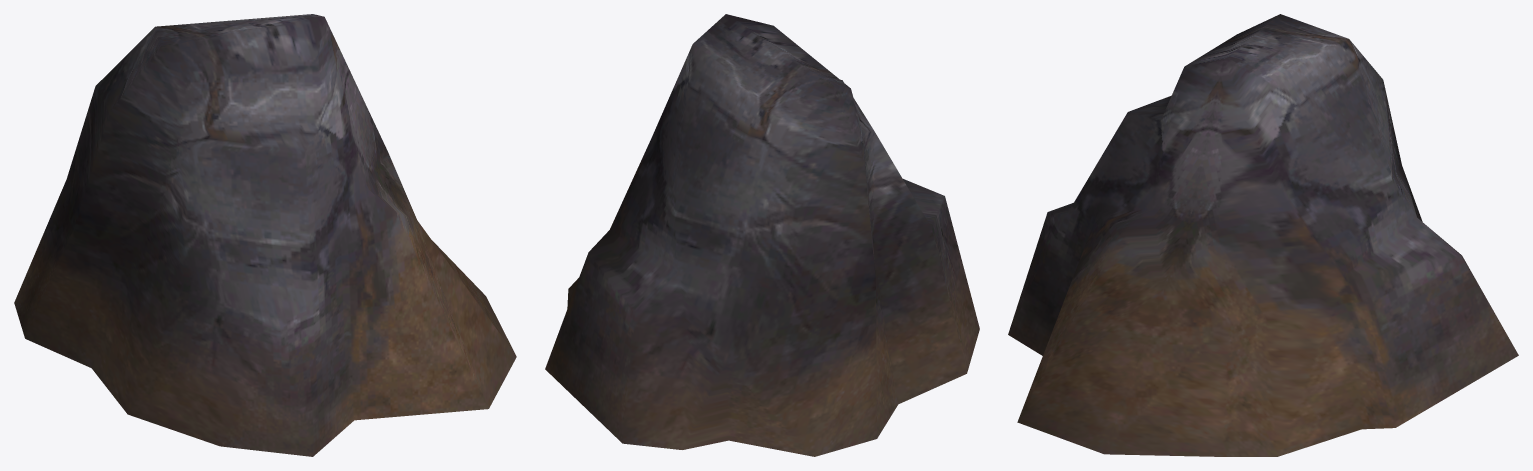
The model's file is environment_stone_yewai_003.FBX.
The picture shows the model from 3 angles, left to right: view 1: azimuth 30°, elevation 25°; view 2: azimuth 150°, elevation 25°; view 3: azimuth 270°, elevation 25°; orthographic projection.
Parts seen in each view (by area): view 1: environment_stone_huojianshi_001_02; view 2: environment_stone_huojianshi_001_02; view 3: environment_stone_huojianshi_001_02.
Part boxes in pixels (x1=…): environment_stone_huojianshi_001_02: x1=14, y1=14, x2=516, y2=456; environment_stone_huojianshi_001_02: x1=545, y1=14, x2=979, y2=456; environment_stone_huojianshi_001_02: x1=1008, y1=14, x2=1518, y2=456.
Size of the model in its own units: 35.02 by 28.76 by 40.12.
Materials: 1 (1 with a texture image).
